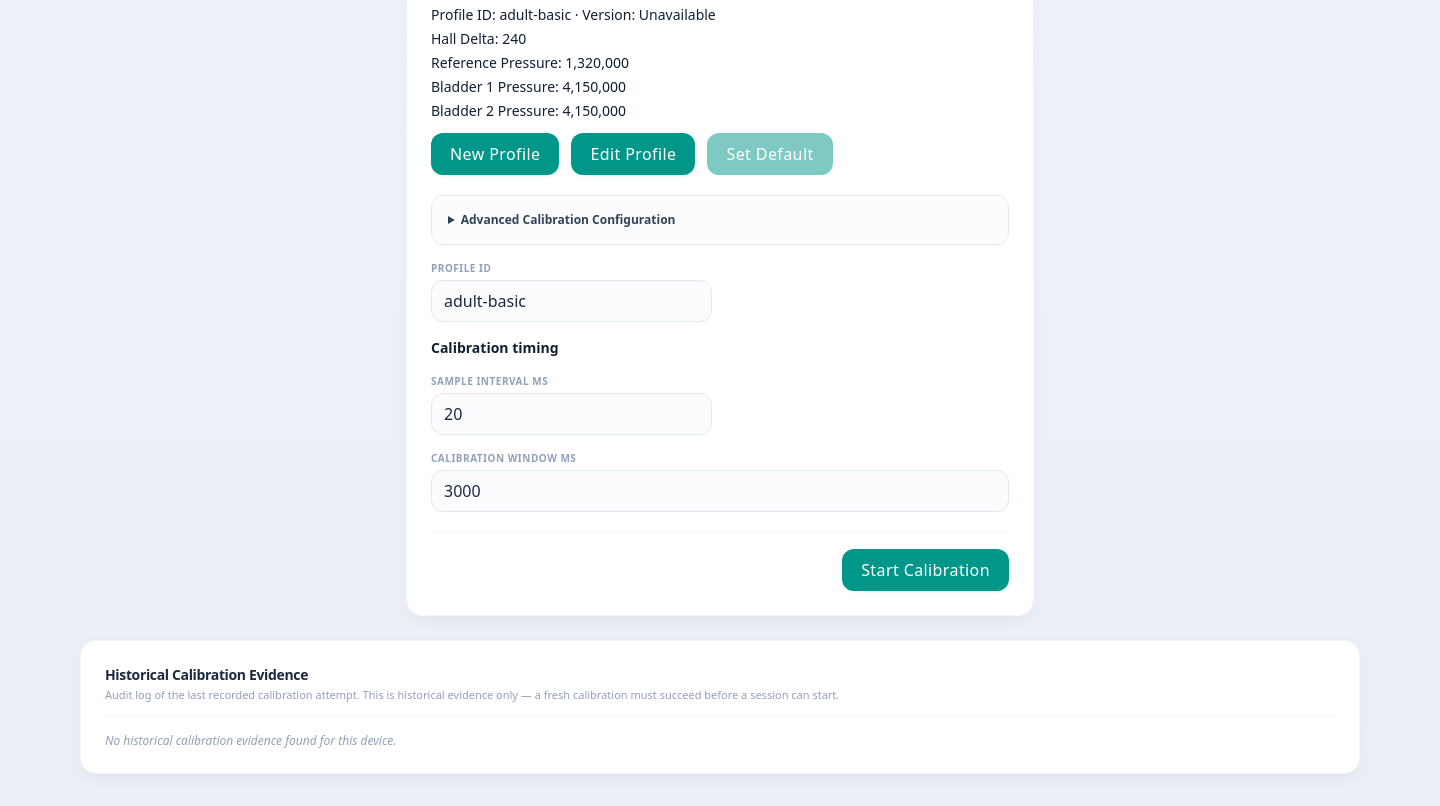
Test: CalibrationWizardPage › shows backend mismatch rejection without changing submitted values
(page scrolled)
Click the button "Start Calibration": (926,570) [842,549,1009,591]
(page scrolled)
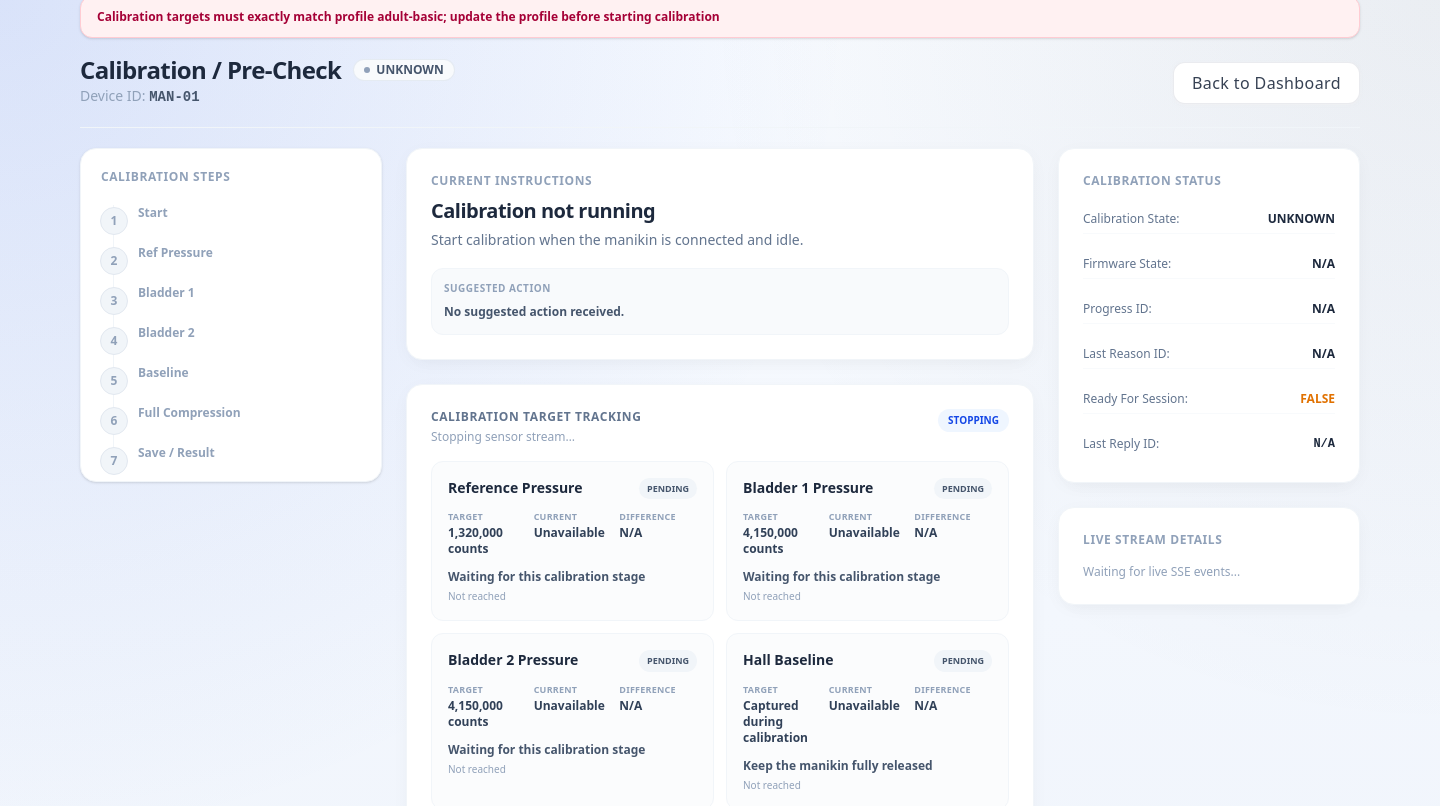
Expected: the text "Calibration targets must exactly match profile" is shown, [97,8,720,25]
